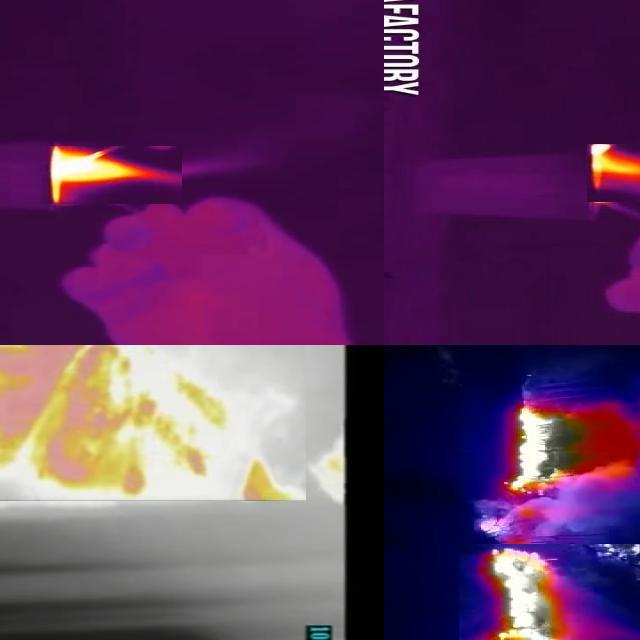fire: (1, 346, 305, 502), (477, 397, 633, 539), (459, 545, 640, 640), (42, 147, 182, 205), (587, 145, 640, 203)
